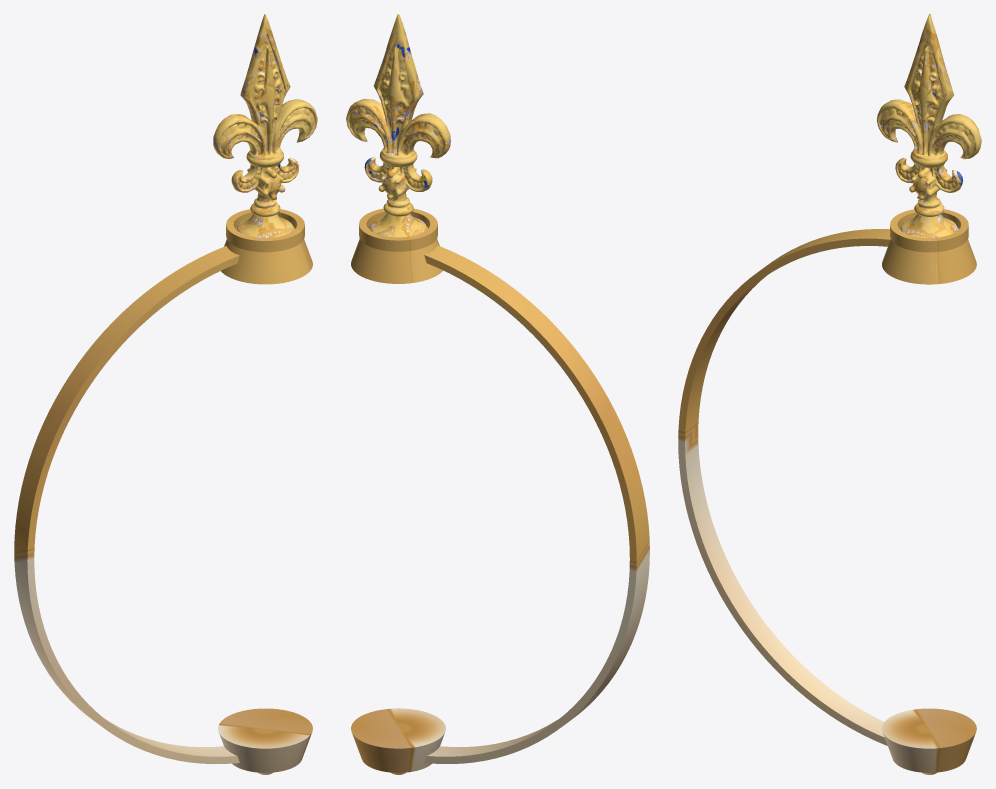
Rendered from EtherVessel_Swing.gltf.
3 views of the same model, side by side, from view 1: azimuth 30°, elevation 25°; view 2: azimuth 150°, elevation 25°; view 3: azimuth 330°, elevation 25° (orthographic).
Parts seen in each view (by area): view 1: EtherVessel_Swing; view 2: EtherVessel_Swing; view 3: EtherVessel_Swing.
Boxes of the visible parts, x1=… form: EtherVessel_Swing: x1=14, y1=14, x2=317, y2=774; EtherVessel_Swing: x1=346, y1=14, x2=649, y2=774; EtherVessel_Swing: x1=678, y1=14, x2=981, y2=774.
Size of the model in its own units: 0.3618 by 0.8863 by 0.1008.
1 material, 1 textured.
